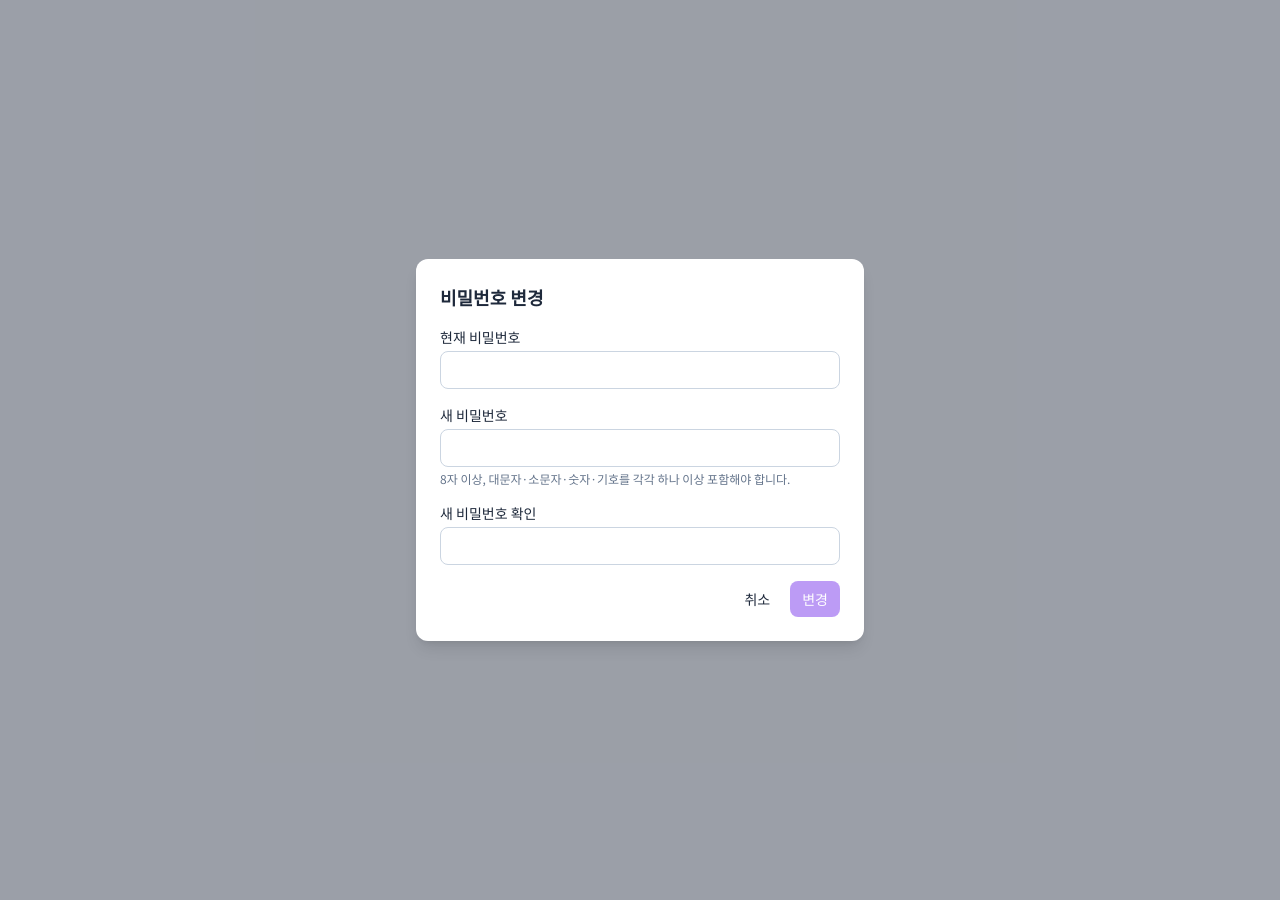
Test: ChangePasswordModal › restates the policy when the new password is rejected
Type "OldPass1!" into the password field labelled "현재 비밀번호" at (640,370), box [440,351,840,389]
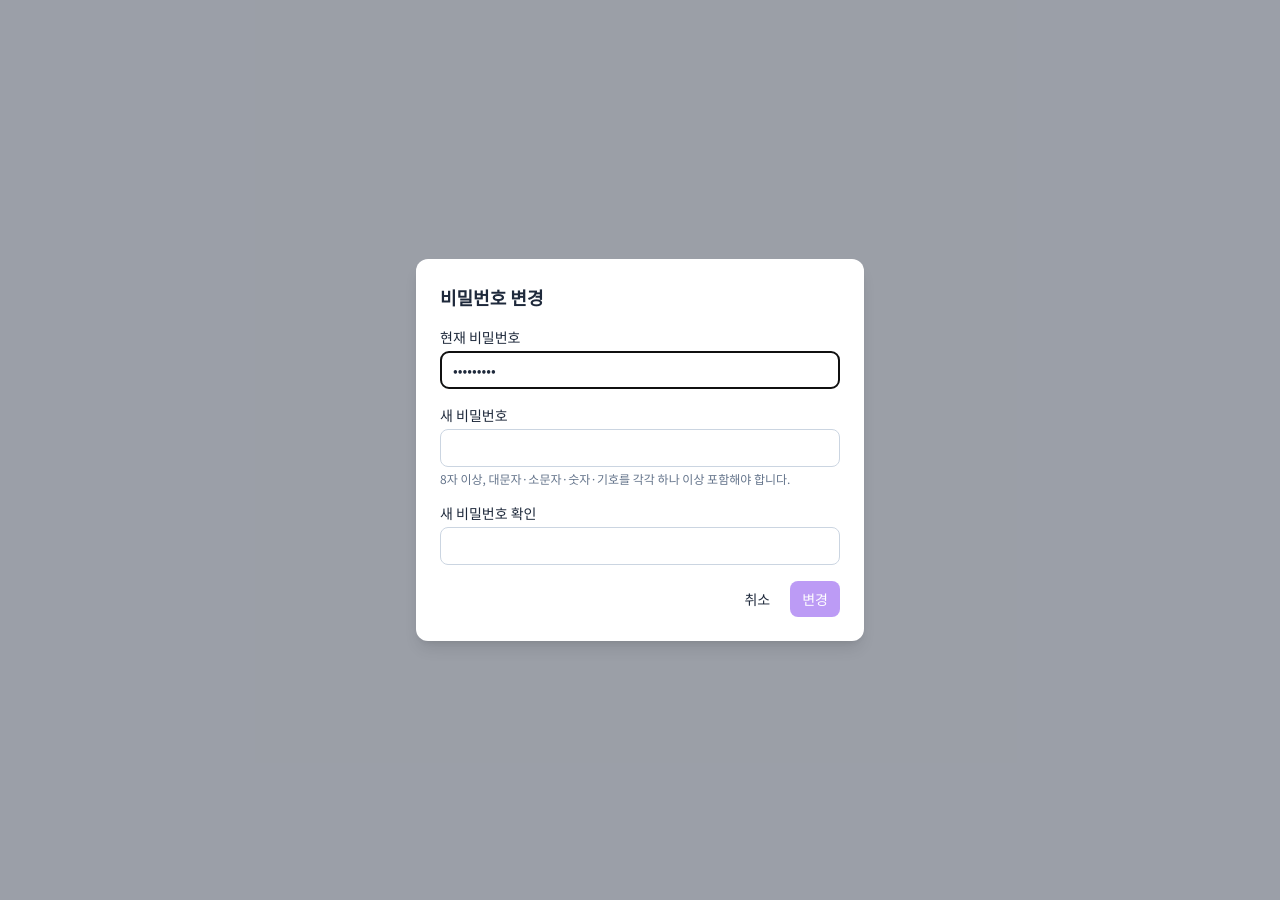
Type "weak" into the password field labelled "새 비밀번호" at (640,448), box [440,429,840,467]
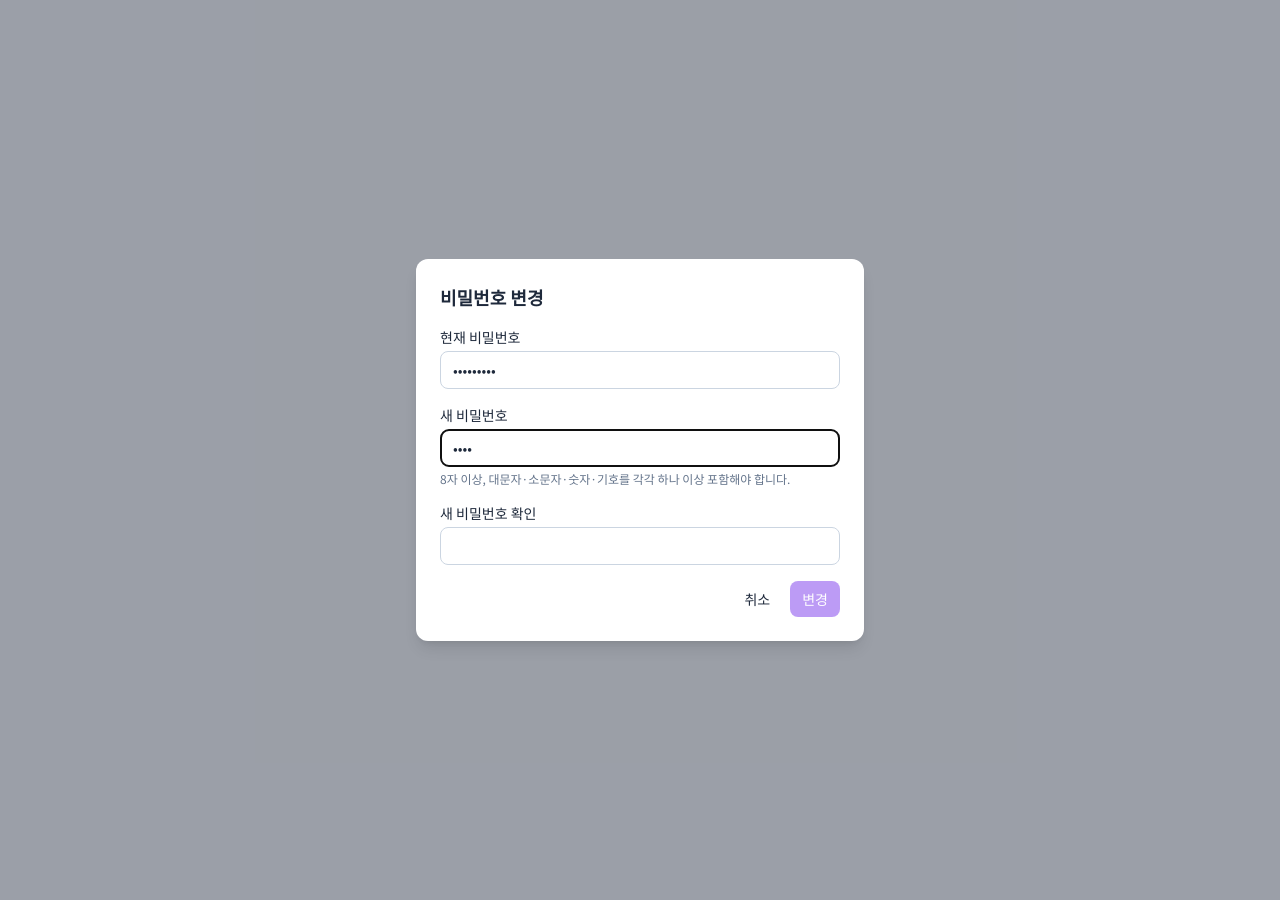
Type "weak" into the password field labelled "새 비밀번호 확인" at (640,546), box [440,527,840,565]
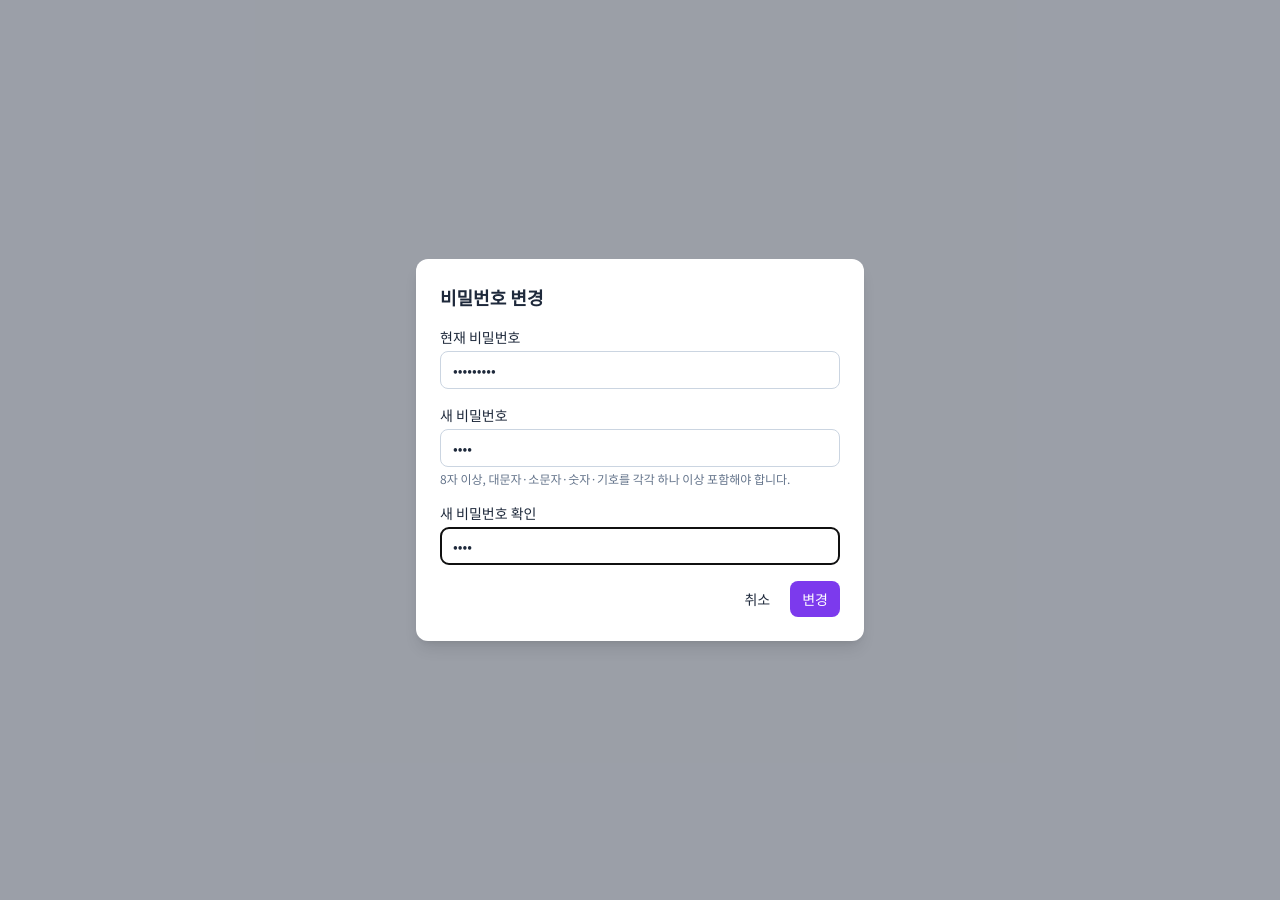
Click the button "변경" at (815,599), box [790,581,840,617]
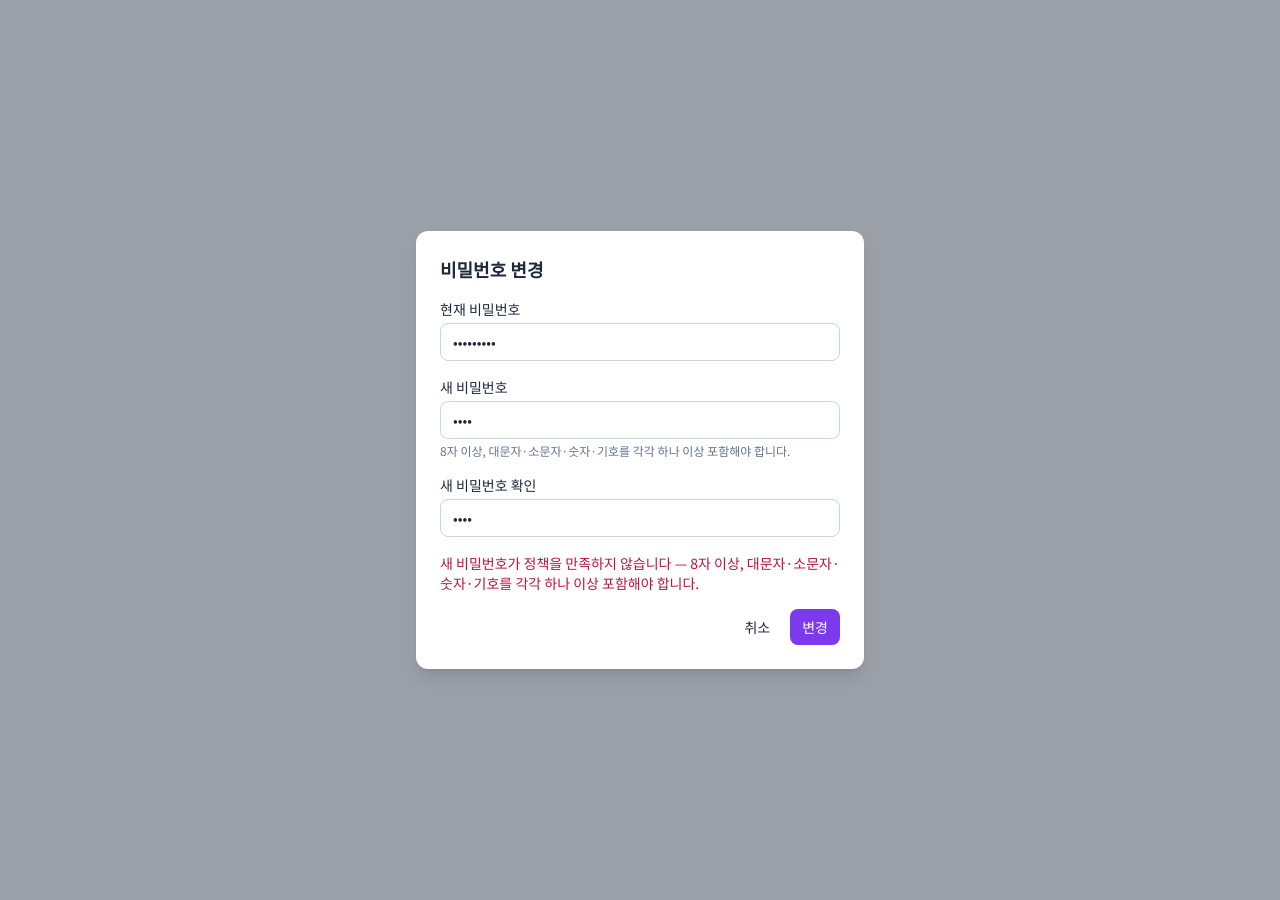
Now the message shows "8자 이상", box [440,553,840,593]
